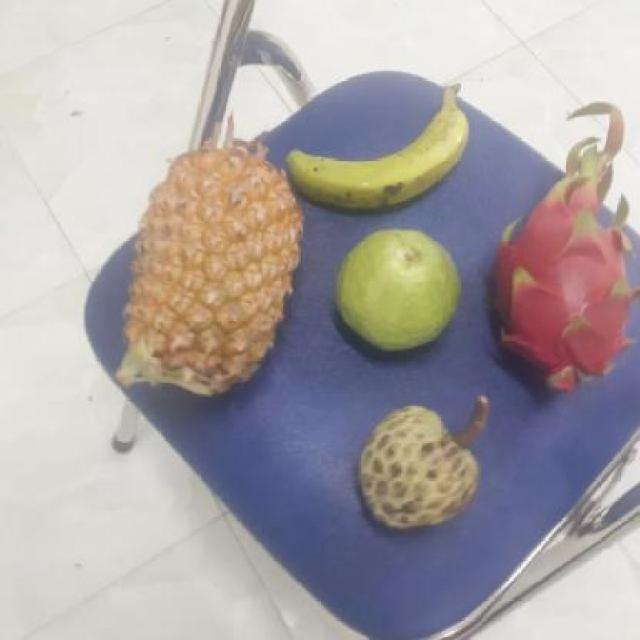banana: (285, 81, 463, 216)
dragon fruit: (479, 179, 639, 399)
guava: (330, 230, 459, 353)
pineapple: (119, 153, 299, 404)
sugar apple: (349, 406, 480, 531)
